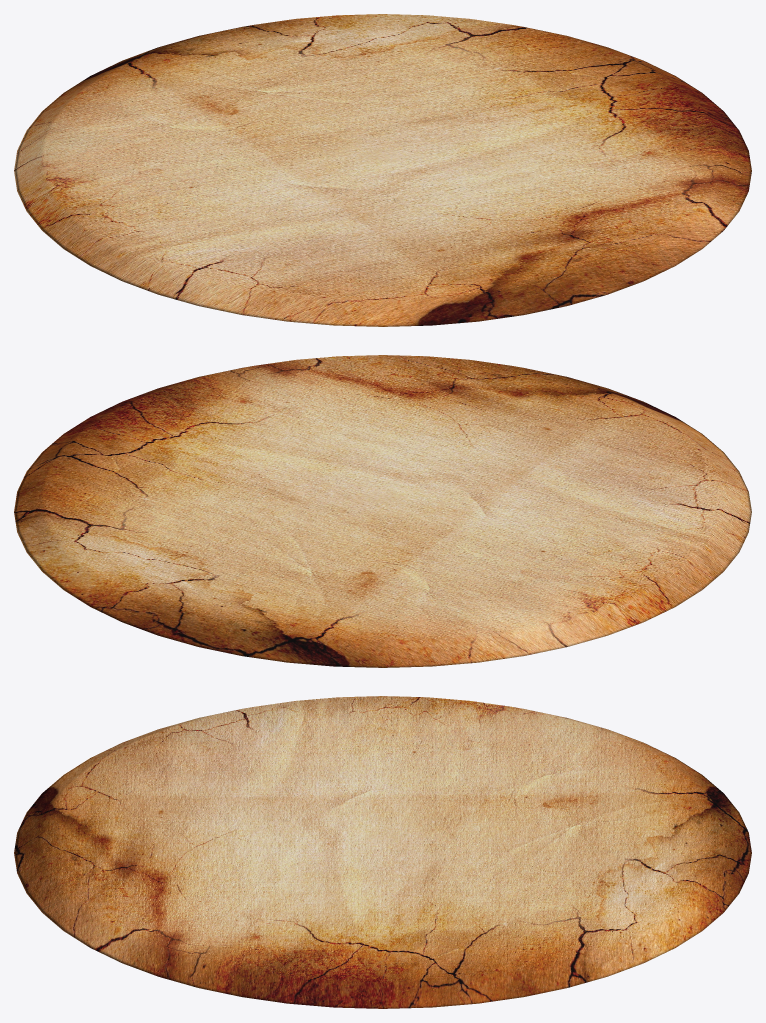
The model's file is ground3.FBX.
3 views of the same model, one above another, from view 1: azimuth 30°, elevation 25°; view 2: azimuth 150°, elevation 25°; view 3: azimuth 270°, elevation 25° (orthographic).
Parts seen in each view (by area): view 1: Cone001; view 2: Cone001; view 3: Cone001.
Boxes of the visible parts, x1=… form: Cone001: x1=14, y1=14, x2=751, y2=326; Cone001: x1=14, y1=355, x2=751, y2=667; Cone001: x1=14, y1=696, x2=751, y2=1008.
Size of the model in its own units: 1546 by 39.37 by 1546.
